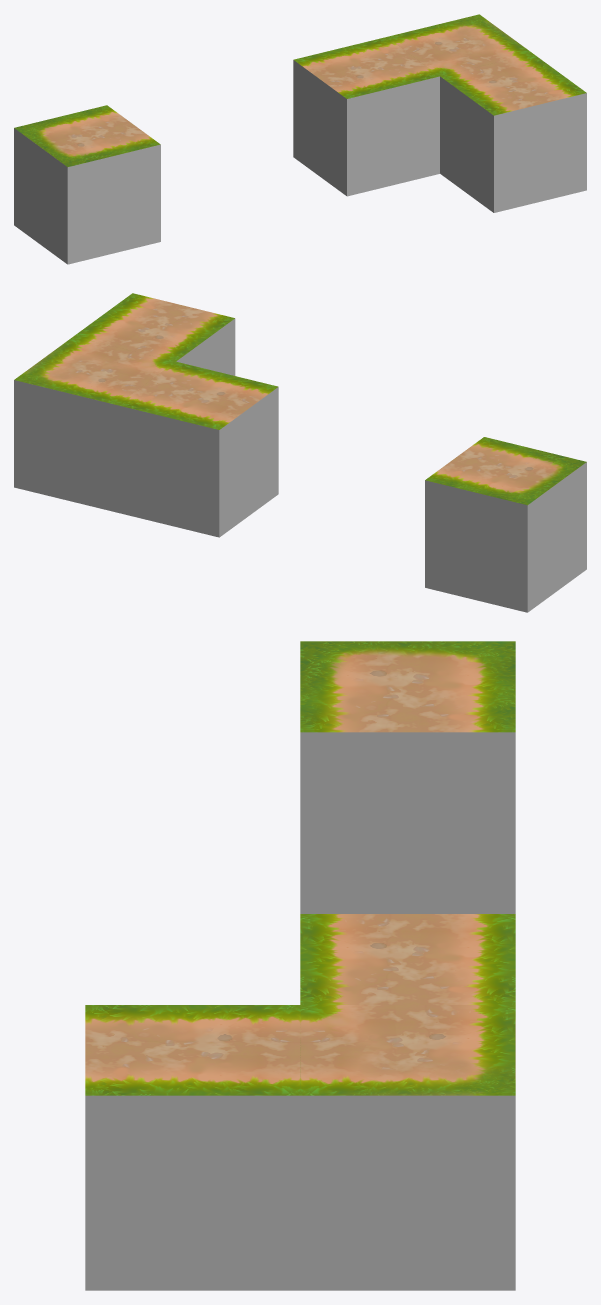
Rendered from Terrrain_Module_Wornout.fbx.
The picture shows the model from 3 angles, top to bottom: view 1: azimuth 30°, elevation 25°; view 2: azimuth 150°, elevation 25°; view 3: azimuth 270°, elevation 25°; orthographic projection. The views are drawn at different scales.
Visible parts, largest first — view 1: TM_Grass_BasicCube01.114, TM_Grass_BasicCube01.032, TM_Grass_BasicCube01.116, TM_Grass_BasicCube01.115; view 2: TM_Grass_BasicCube01.032, TM_Grass_BasicCube01.114, TM_Grass_BasicCube01.115, TM_Grass_BasicCube01.116; view 3: TM_Grass_BasicCube01.116, TM_Grass_BasicCube01.115, TM_Grass_BasicCube01.114, TM_Grass_BasicCube01.032.
Boxes of the visible parts, x1,y1,x2,y2 form: TM_Grass_BasicCube01.114: [14, 105, 160, 264]; TM_Grass_BasicCube01.032: [293, 37, 439, 196]; TM_Grass_BasicCube01.116: [440, 54, 586, 212]; TM_Grass_BasicCube01.115: [387, 14, 532, 76]; TM_Grass_BasicCube01.032: [116, 361, 278, 537]; TM_Grass_BasicCube01.114: [425, 437, 586, 612]; TM_Grass_BasicCube01.115: [14, 336, 175, 512]; TM_Grass_BasicCube01.116: [73, 293, 235, 375]; TM_Grass_BasicCube01.116: [85, 1005, 300, 1290]; TM_Grass_BasicCube01.115: [300, 1005, 515, 1290]; TM_Grass_BasicCube01.114: [300, 641, 515, 913]; TM_Grass_BasicCube01.032: [300, 914, 515, 1004].
Bounding box in the file's own units: 10 × 2 × 4.
